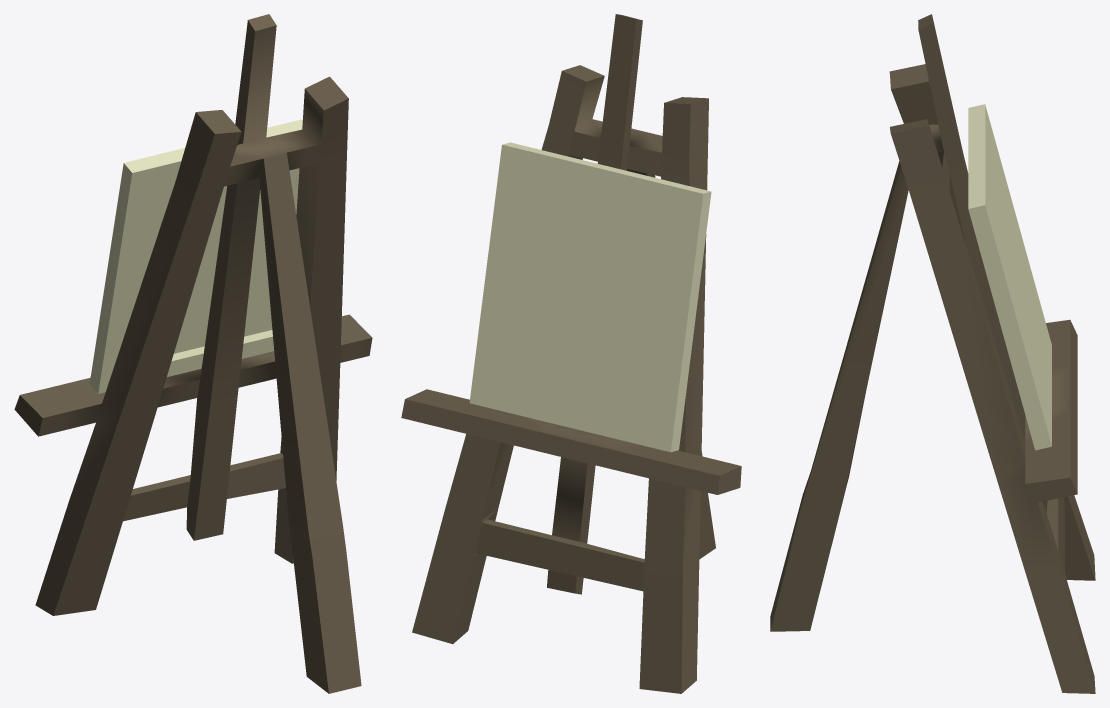
The model's file is caballete.fbx.
3 views of the same model, side by side, from view 1: azimuth 30°, elevation 25°; view 2: azimuth 150°, elevation 25°; view 3: azimuth 270°, elevation 25° (orthographic). The views are drawn at different scales.
Visible parts, largest first — view 1: pCube11, pCube12; view 2: pCube11, pCube12; view 3: pCube11, pCube12.
Part boxes in pixels (x1=…): pCube11: x1=14, y1=14, x2=372, y2=693; pCube12: x1=89, y1=119, x2=302, y2=393; pCube11: x1=401, y1=14, x2=741, y2=693; pCube12: x1=469, y1=142, x2=711, y2=452; pCube11: x1=770, y1=14, x2=1095, y2=693; pCube12: x1=968, y1=104, x2=1051, y2=450.
Bounding box in the file's own units: 2.38 × 4.26 × 2.06.
